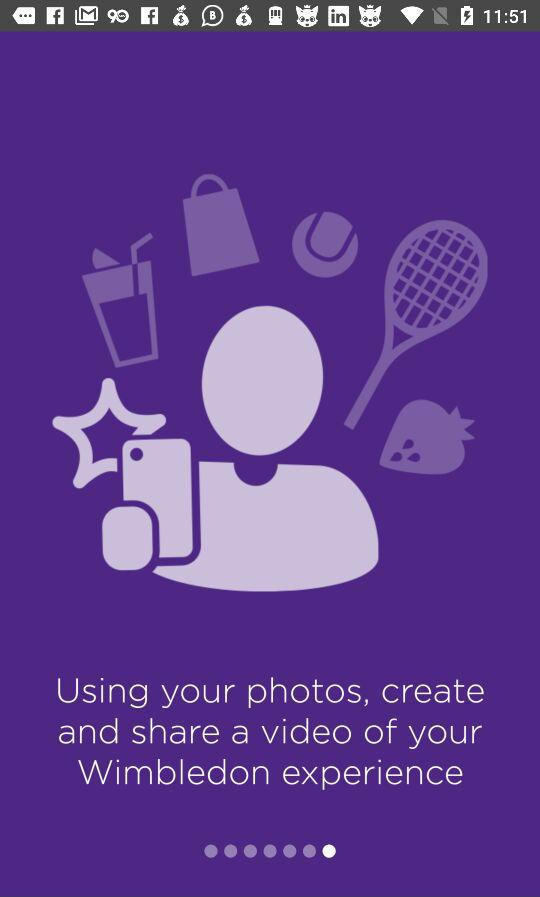Image: (51, 173, 489, 593)
PageIndicator: (203, 843, 337, 860)
Text: (57, 675, 485, 791)
UpperTaskBar: (1, 1, 540, 33)
